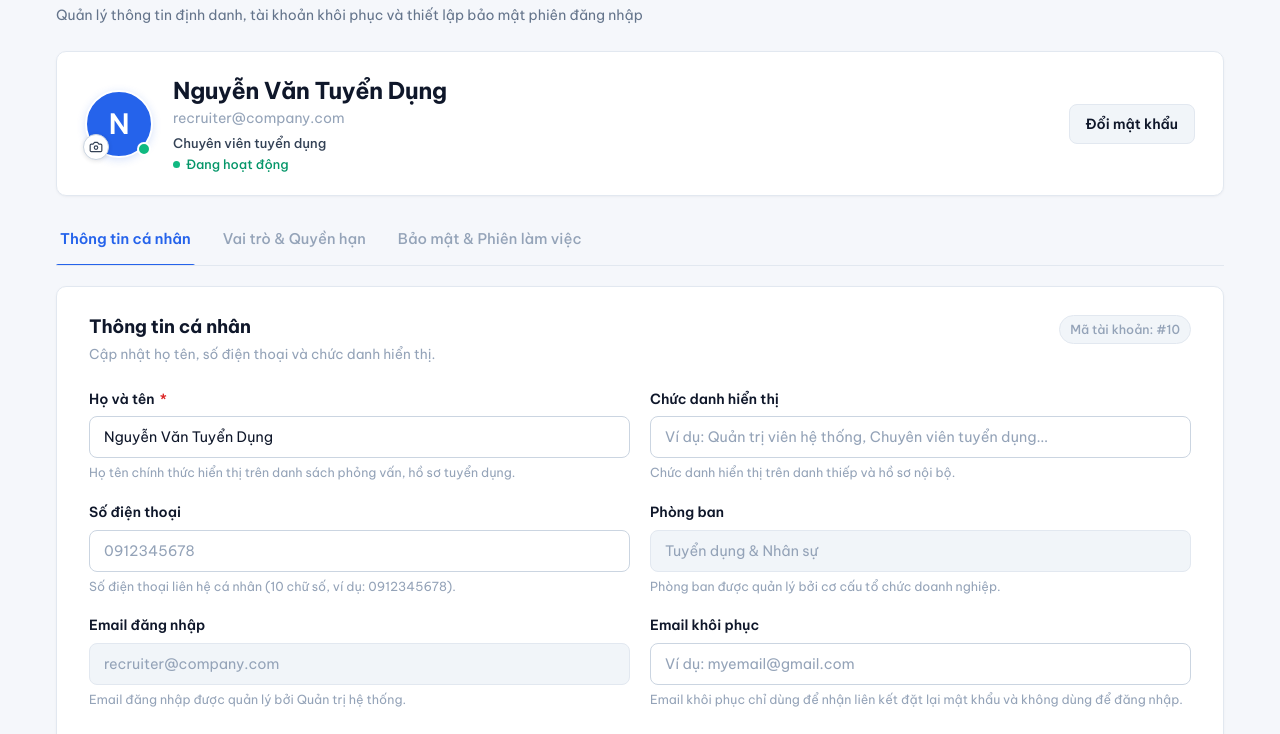
ProfilePage Component (Personal User Profile) › can switch tabs to Security and view token & password policies
Click the button "Bảo mật & Phiên làm việc" at (490,240), box [394,216,586,265]
(page scrolled)
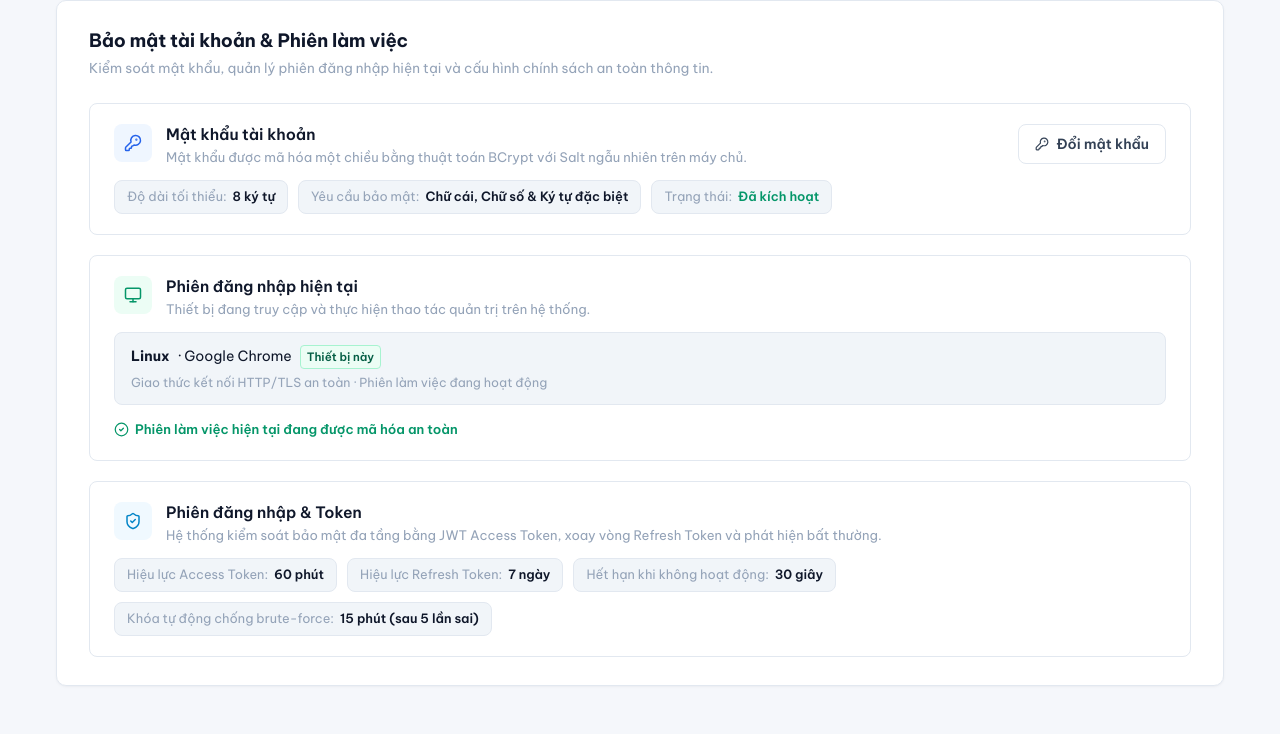
Expected: the heading "Bảo mật tài khoản & Phiên làm việc" is shown, [89,29,408,52]
Expected: the heading "Mật khẩu tài khoản" is shown, [166,124,316,144]
Expected: the heading "Phiên đăng nhập & Token" is shown, [166,502,362,522]
